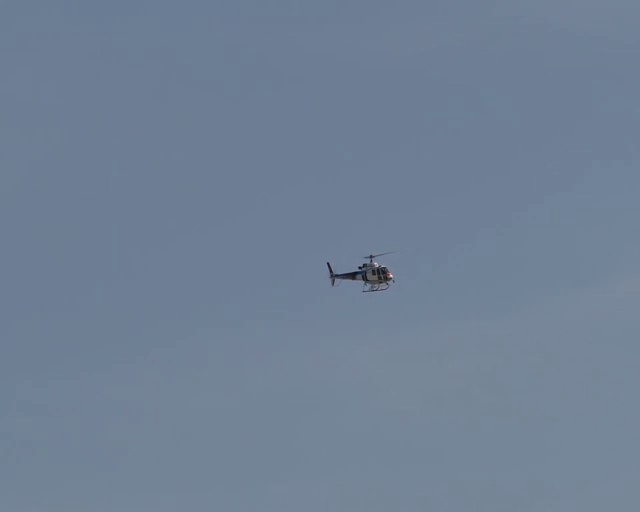HELICOPTER: (325, 251, 396, 293)
